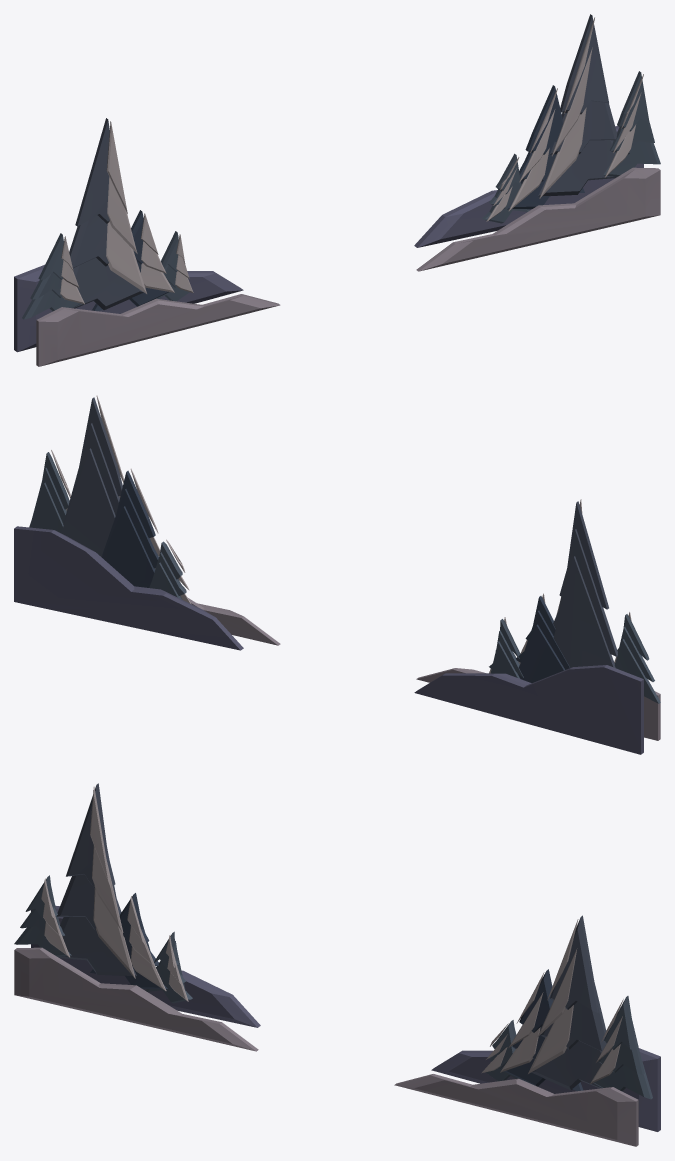
The model's file is workshop-winter-wings.glb.
3 views of the same model, one above another, from view 1: azimuth 30°, elevation 25°; view 2: azimuth 150°, elevation 25°; view 3: azimuth 330°, elevation 25° (orthographic).
Visible parts, largest first — view 1: workshop-winter-wings; view 2: workshop-winter-wings; view 3: workshop-winter-wings.
Boxes of the visible parts, bbox=[...] form: workshop-winter-wings: bbox=[14, 14, 660, 366]; workshop-winter-wings: bbox=[14, 395, 660, 754]; workshop-winter-wings: bbox=[14, 783, 660, 1146].
Bounding box in the file's own units: 5 × 1.68 × 0.33.
